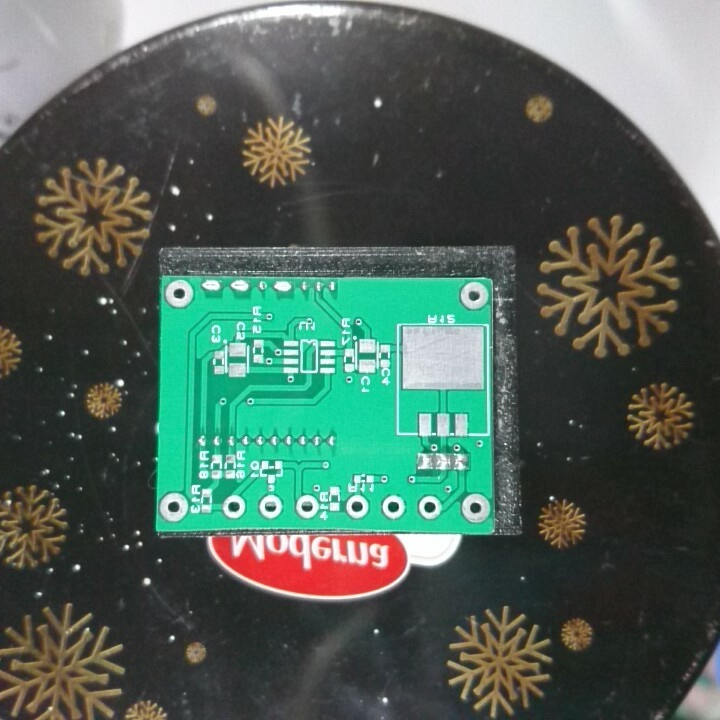F: (159, 490, 191, 525), (457, 280, 490, 312), (163, 278, 195, 311), (459, 493, 491, 524), (257, 491, 285, 519), (220, 493, 248, 520), (380, 494, 408, 521), (343, 494, 371, 520), (417, 494, 443, 520), (293, 495, 319, 519)
P: (228, 277, 251, 295), (199, 277, 222, 295), (271, 279, 294, 296)
